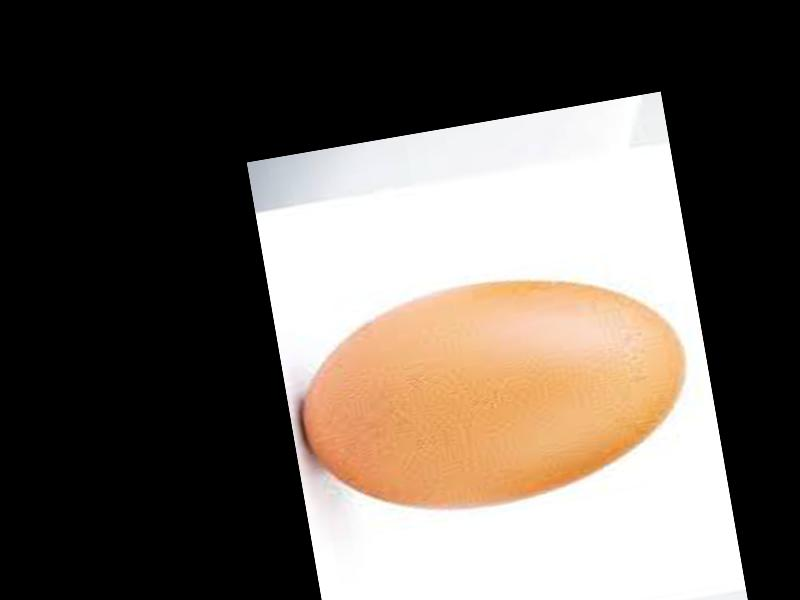Eggs: (285, 252, 702, 534)
